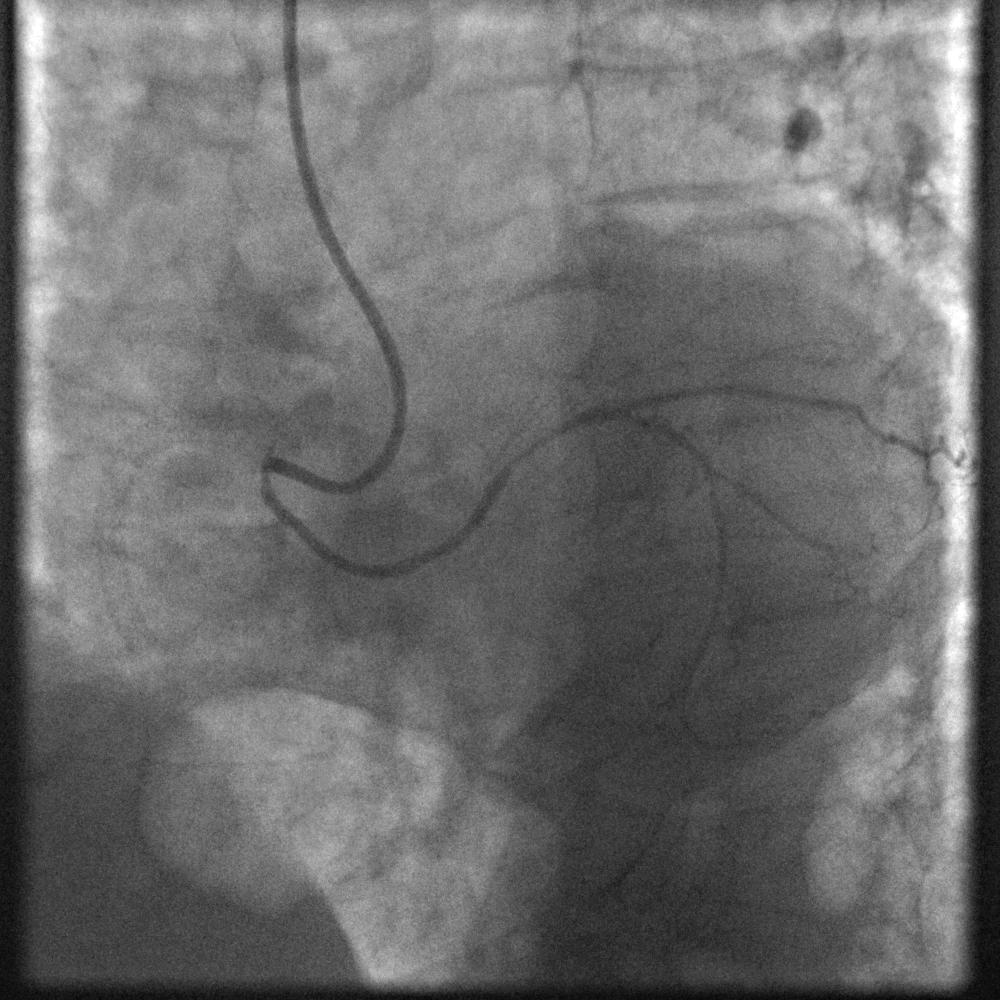Stenosis: (500, 413, 575, 465)
